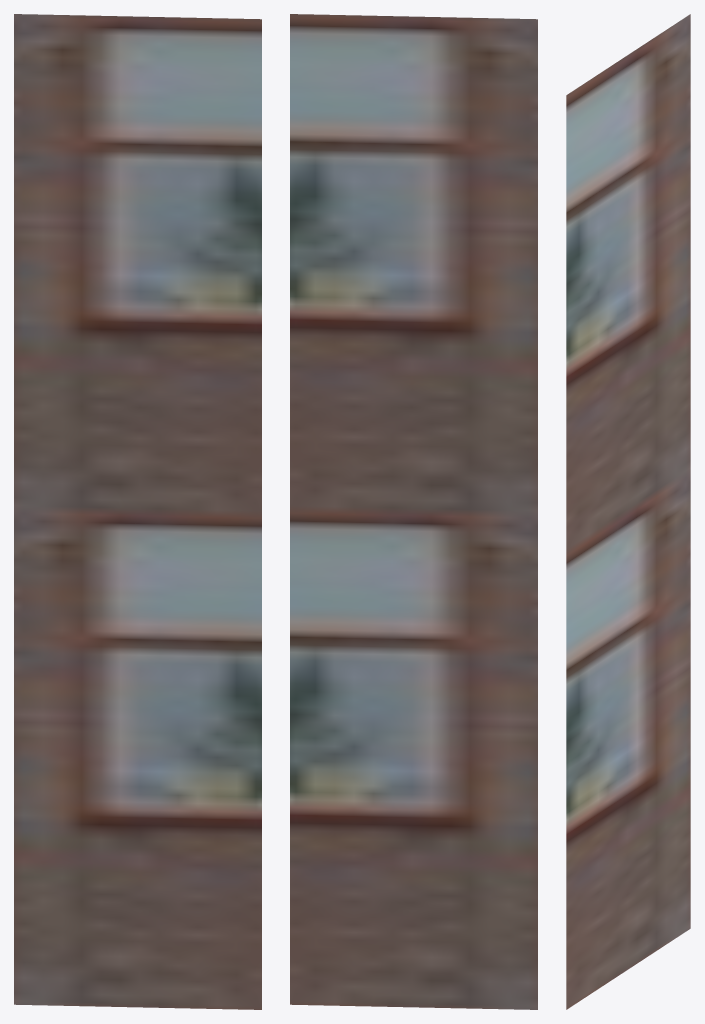
Rendered from ResTex__3915.fbx.
The picture shows the model from 3 angles, left to right: view 1: azimuth 30°, elevation 25°; view 2: azimuth 210°, elevation 25°; view 3: azimuth 270°, elevation 25°; orthographic projection. The views are drawn at different scales.
Parts seen in each view (by area): view 1: CityEngineMaterial_19_m; view 2: CityEngineMaterial_19_m; view 3: CityEngineMaterial_19_m.
Boxes of the visible parts, x1=… form: CityEngineMaterial_19_m: x1=14, y1=14, x2=261, y2=1009; CityEngineMaterial_19_m: x1=290, y1=14, x2=537, y2=1009; CityEngineMaterial_19_m: x1=566, y1=14, x2=690, y2=1009.
Bounding box in the file's own units: 1.14 × 6 × 0.7382.
Materials: 1 (1 with a texture image).
